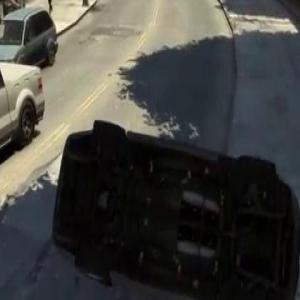critical: (48, 109, 300, 300)
